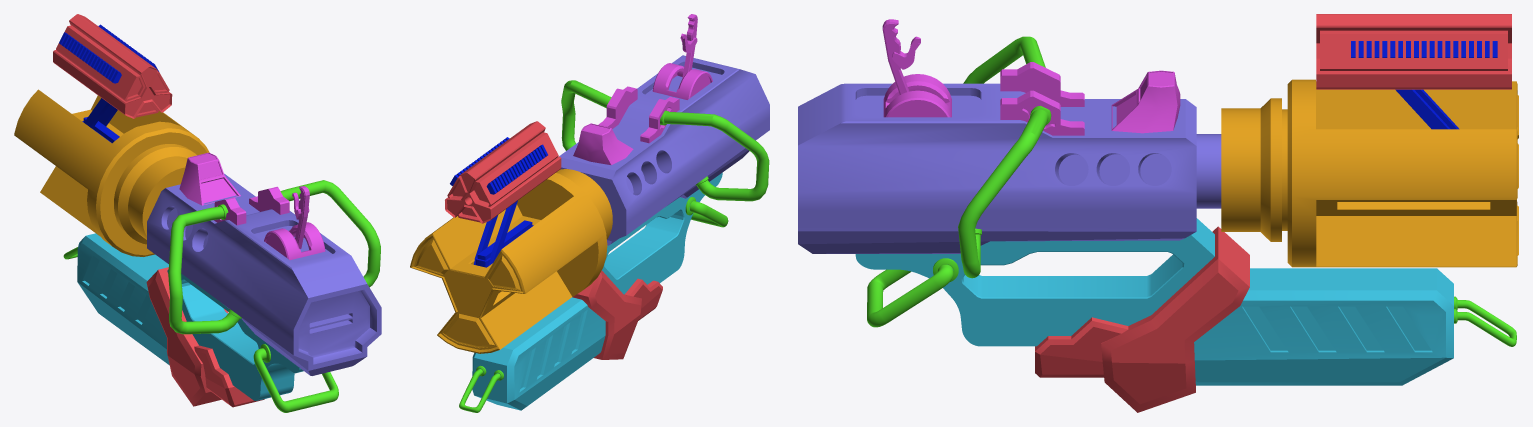
Rendered from Detailed_ML_v004.fbx.
3 renders of one model, left to right at view 1: azimuth 30°, elevation 25°; view 2: azimuth 150°, elevation 25°; view 3: azimuth 270°, elevation 25°, orthographic. The views are drawn at different scales.
Parts seen in each view (by area): view 1: Spindle, Drum, Battery, 3_Barrels.006, Base_Frame, Top_Handle, Casing_001, Cube, Battery_Handle.001, Casing_002, Circle, Handle_Brackets (+3 smaller); view 2: Drum, Spindle, Battery, 3_Barrels.006, Base_Frame, Top_Handle, Casing_001, Handle_Brackets, Cube, Circle, 3_Barrels.007, Box.008 (+5 smaller); view 3: Spindle, Drum, Battery, Base_Frame, 3_Barrels.006, Casing_001, Top_Handle, Handle_Brackets, Casing_002, Cube, Battery_Handle.001, Circle (+4 smaller).
Boxes of the visible parts, x1,y1,x2,y2 form: Spindle: [147, 173, 381, 375]; Drum: [14, 89, 209, 256]; Battery: [77, 233, 169, 364]; 3_Barrels.006: [53, 14, 172, 118]; Base_Frame: [167, 269, 303, 400]; Top_Handle: [168, 180, 380, 334]; Casing_001: [146, 267, 228, 406]; Cube: [179, 152, 240, 205]; Battery_Handle.001: [253, 348, 338, 412]; Casing_002: [194, 345, 264, 407]; Circle: [264, 222, 325, 260]; Handle_Brackets: [212, 186, 289, 225]; Drum: [410, 169, 612, 353]; Spindle: [559, 55, 769, 245]; Battery: [472, 297, 605, 410]; 3_Barrels.006: [445, 121, 561, 223]; Base_Frame: [602, 172, 722, 294]; Top_Handle: [561, 80, 769, 201]; Casing_001: [572, 270, 641, 359]; Handle_Brackets: [598, 86, 679, 143]; Cube: [573, 123, 633, 165]; Circle: [652, 63, 712, 99]; 3_Barrels.007: [450, 137, 547, 194]; Box.008: [473, 200, 517, 266]; Spindle: [798, 83, 1221, 253]; Drum: [1221, 79, 1518, 267]; Battery: [1194, 268, 1453, 385]; Base_Frame: [855, 218, 1214, 346]; 3_Barrels.006: [1316, 14, 1511, 89]; Casing_001: [1101, 226, 1249, 412]; Top_Handle: [958, 36, 1051, 278]; Handle_Brackets: [1000, 62, 1084, 135]; Casing_002: [1035, 317, 1128, 377]; Cube: [1111, 70, 1180, 133]; Battery_Handle.001: [867, 264, 953, 327]; Circle: [883, 74, 951, 117].
Bounding box in the file's own units: 151 × 197 × 332.
